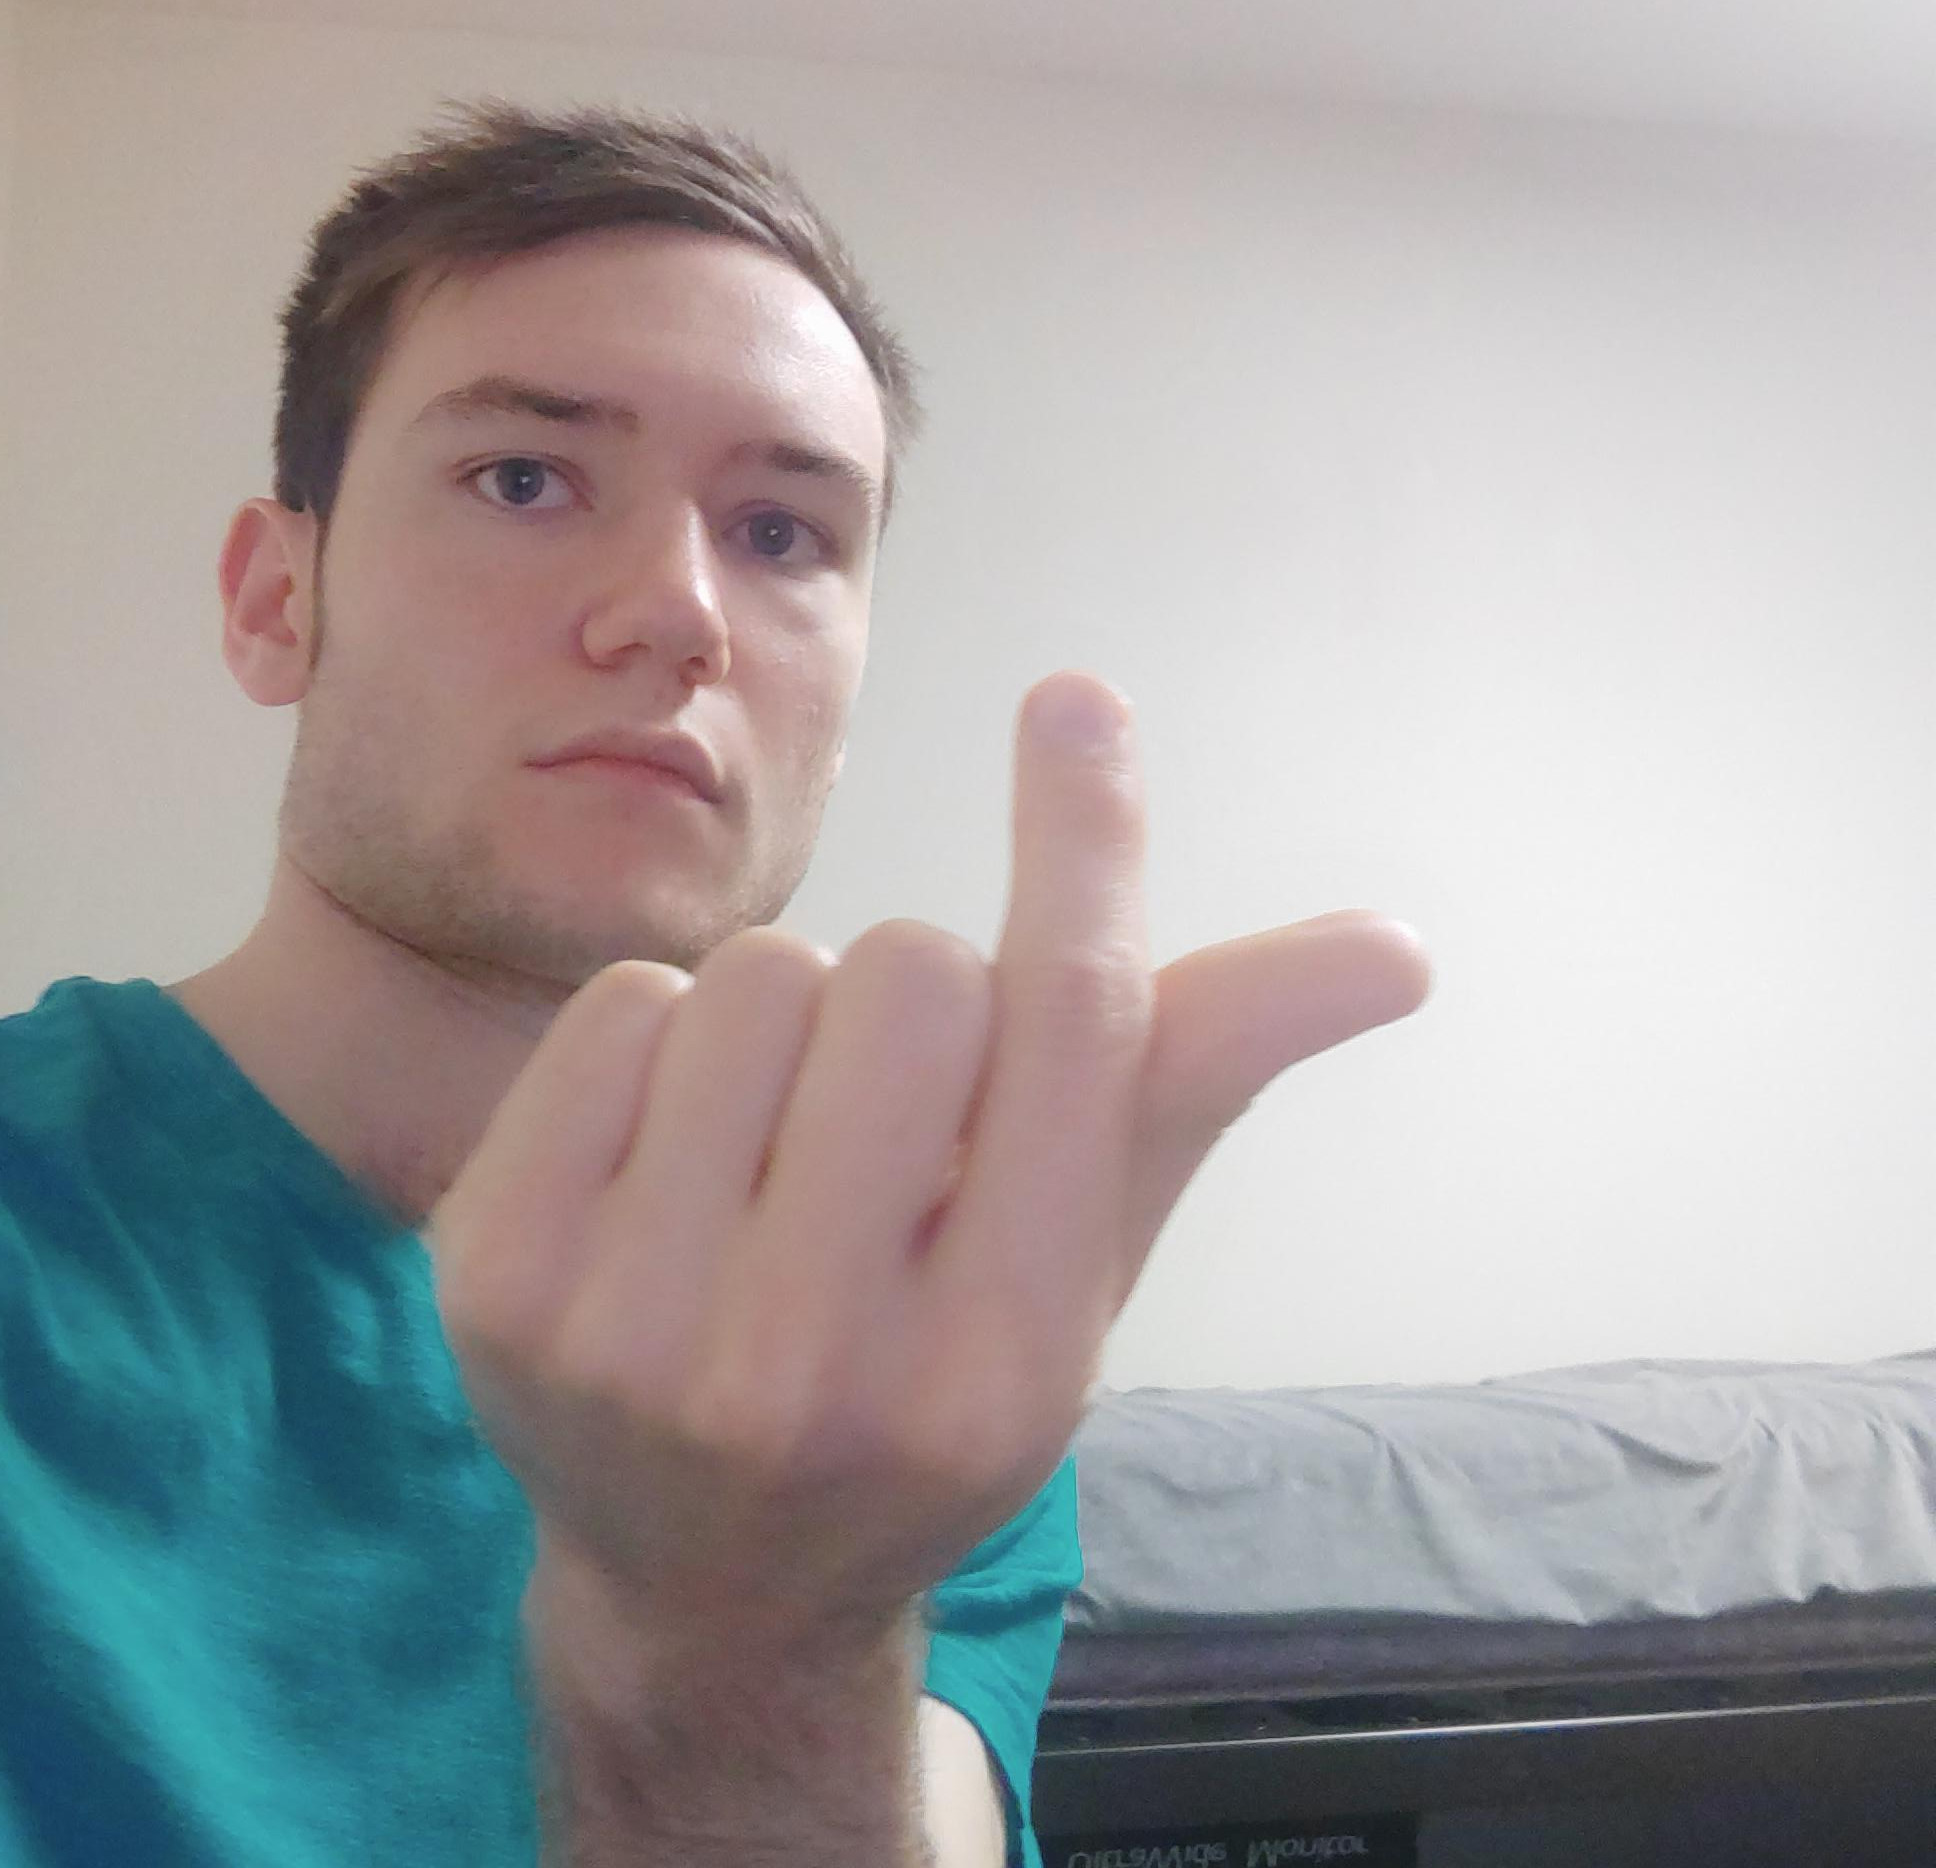heart gesture: (997, 670, 1436, 1097)
